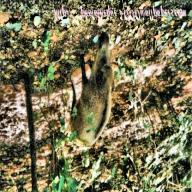boar: (54, 29, 141, 157)
